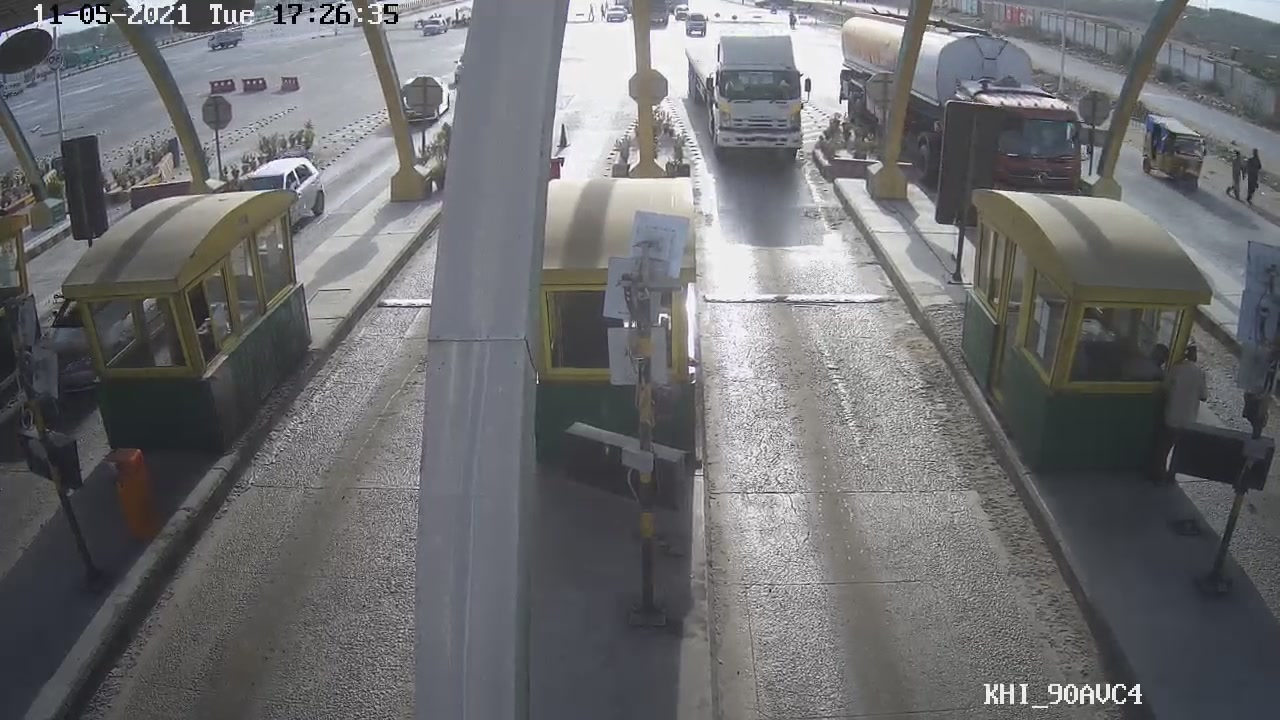F6: (686, 20, 822, 164)
